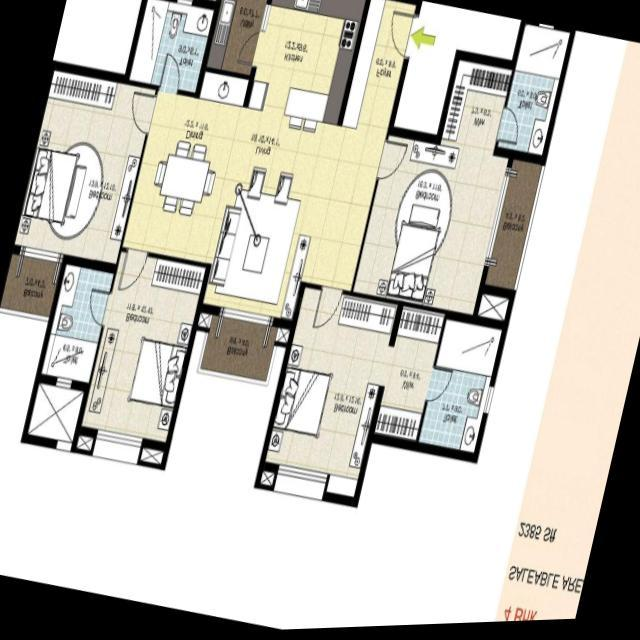Balcony-Sitout: (476, 151, 546, 302), (195, 305, 281, 388), (0, 244, 65, 323)
Bedroom: (347, 127, 514, 322), (7, 61, 158, 274), (73, 247, 211, 457)
Bedroom with Toilet: (253, 285, 508, 506)
Dining: (144, 124, 224, 226)
Dress: (367, 302, 448, 453), (433, 54, 514, 157)
Kitchen: (242, 0, 371, 125)
Living: (200, 108, 334, 323)
Toilet: (411, 313, 508, 464), (489, 23, 574, 169), (35, 252, 118, 391), (122, 0, 219, 96)
Utility: (200, 0, 271, 81)
